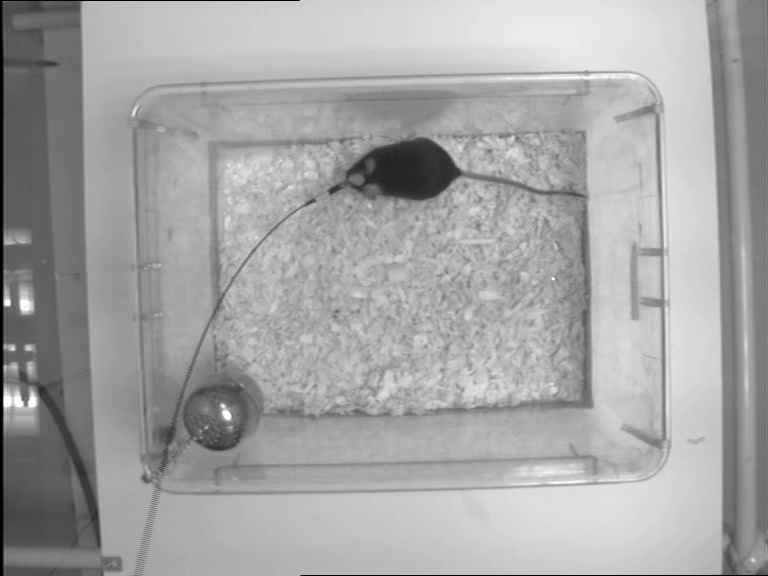mice: (342, 135, 585, 202)
